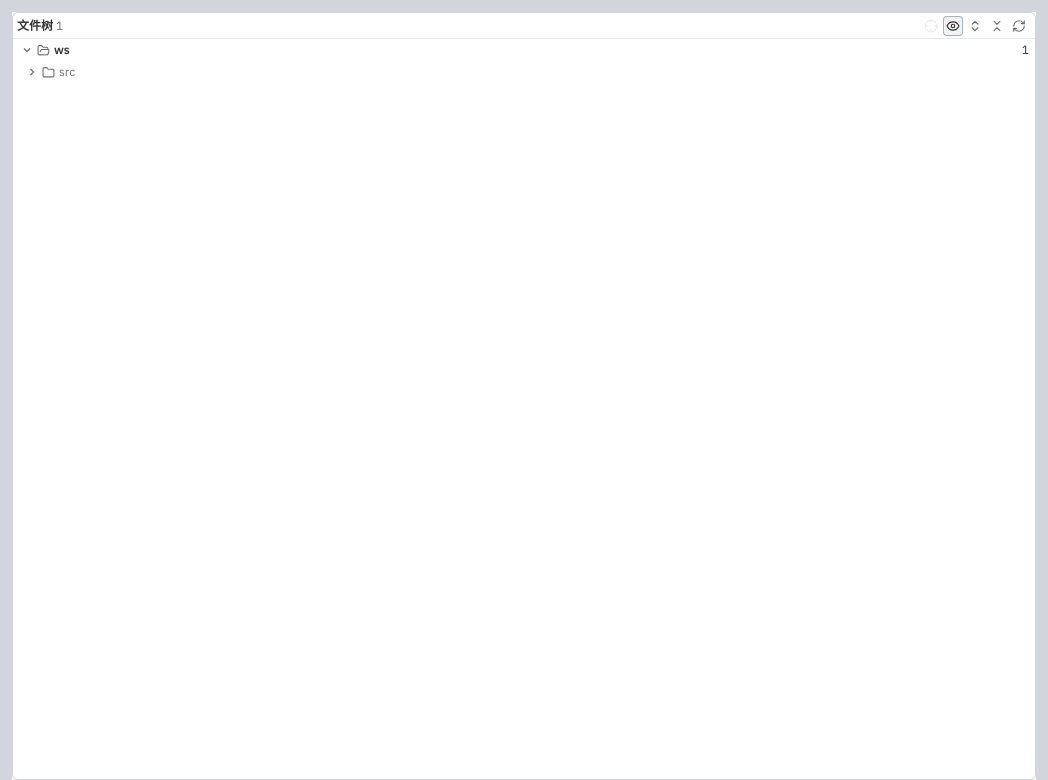
FileTree 工具栏 › 「全部折叠」收起所有已展开目录
Click the button named "展开". click: click(32, 72)
box: top-left (26, 66), bottom-right (38, 78)
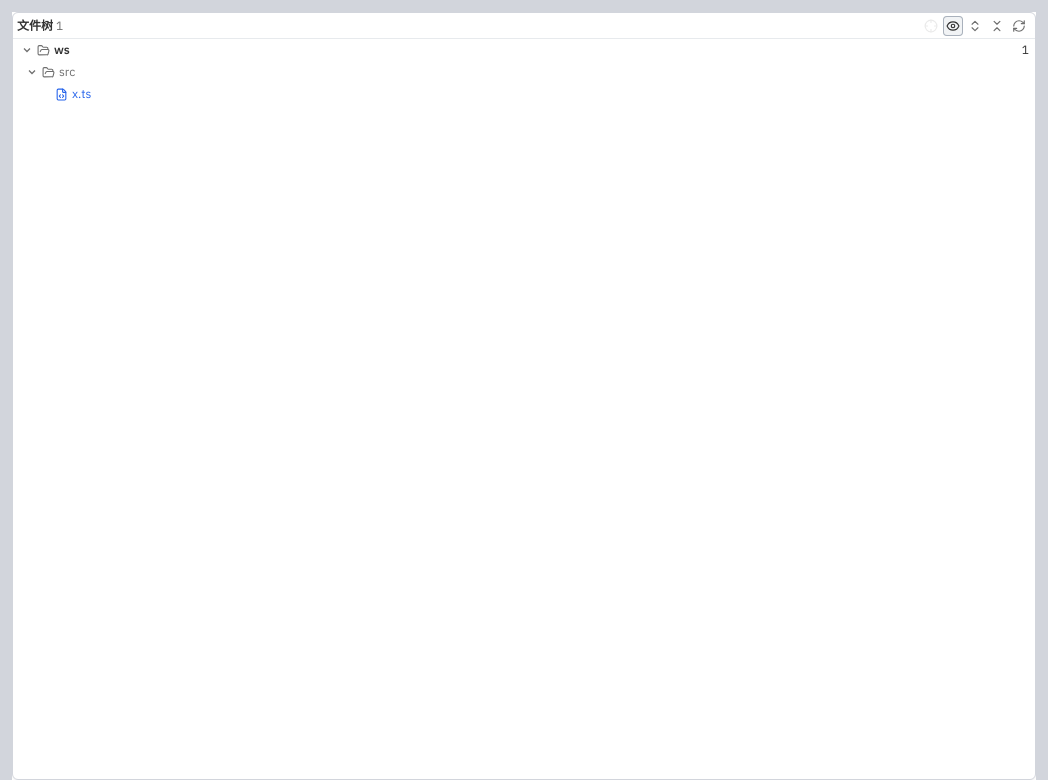
Check: the list item "x.ts" is shown, box top-left (13, 83), bottom-right (1035, 105)
Click the button named "全部折叠". click: click(997, 26)
box: top-left (987, 16), bottom-right (1007, 36)
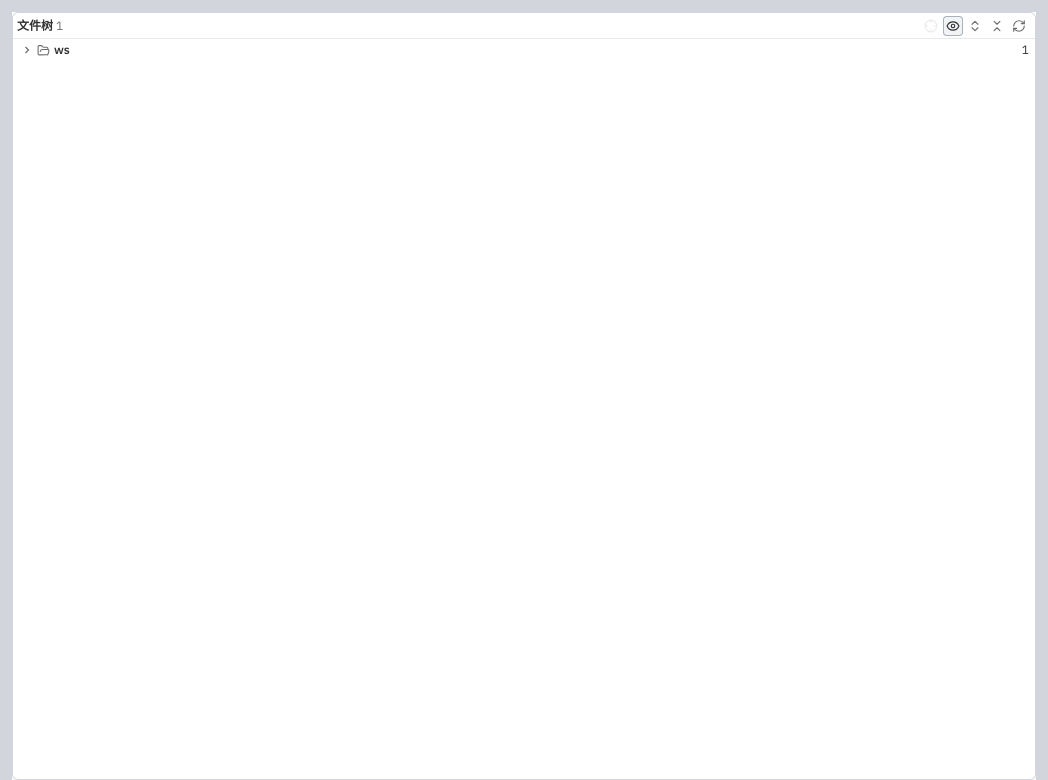
Check: the list item "x.ts" is gone
